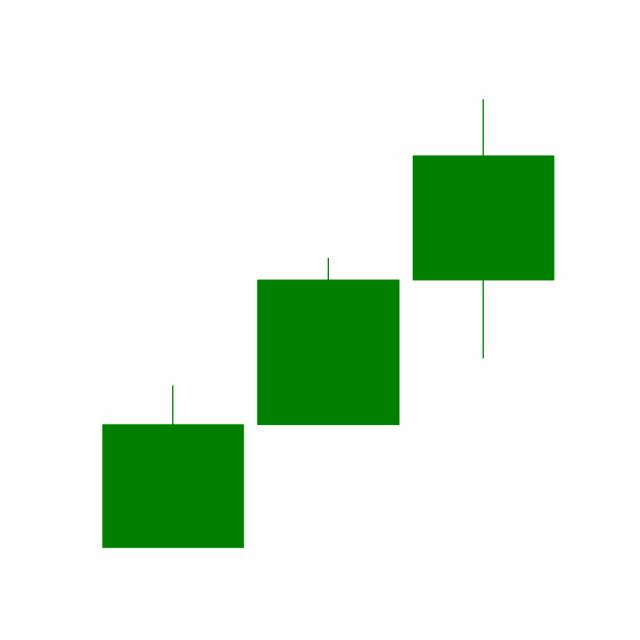Marubozu: (249, 254, 406, 426)
